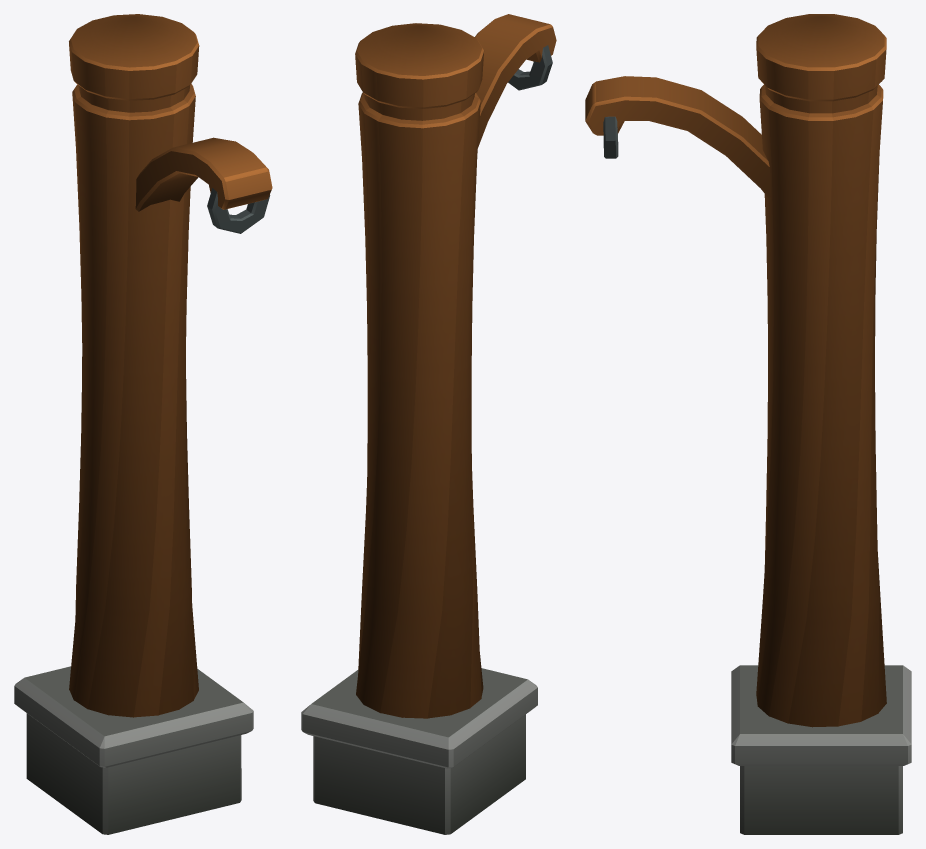
The model's file is Poste-4.fbx.
3 renders of one model, left to right at view 1: azimuth 30°, elevation 25°; view 2: azimuth 150°, elevation 25°; view 3: azimuth 270°, elevation 25°, orthographic. The views are drawn at different scales.
Parts seen in each view (by area): view 1: Poste-4; view 2: Poste-4; view 3: Poste-4.
Boxes of the visible parts, x1,y1,x2,y2 form: Poste-4: (14, 14, 272, 834); Poste-4: (301, 14, 556, 834); Poste-4: (585, 14, 911, 834).
Bounding box in the file's own units: 100 × 480 × 181.
